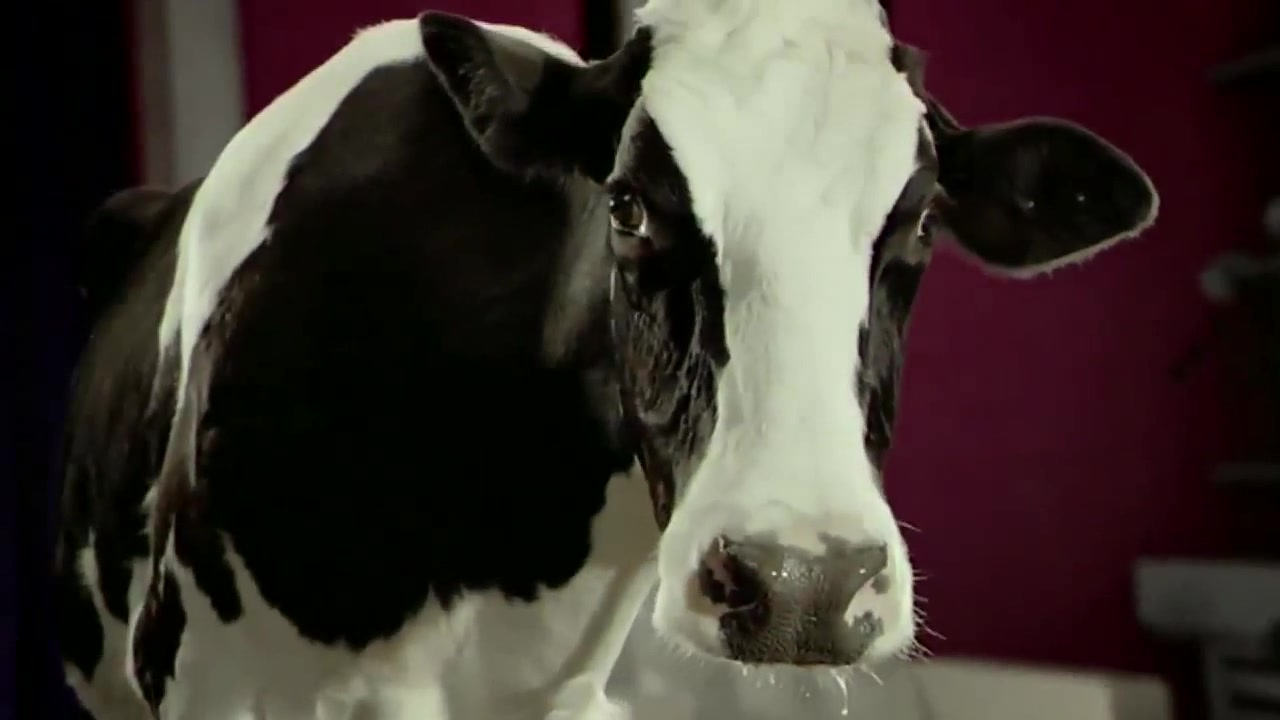cow: (1, 1, 1165, 720)
